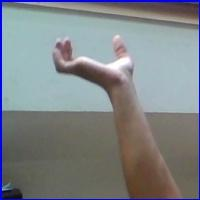B: (48, 31, 139, 91)
